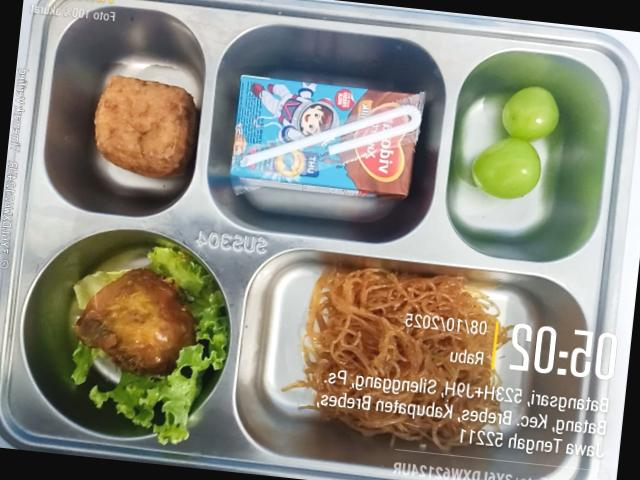ayam: (75, 268, 196, 375)
buah: (502, 87, 561, 141)
mie: (286, 268, 510, 449)
sayur: (90, 247, 229, 444), (75, 272, 126, 307), (71, 342, 101, 384)
susu: (231, 75, 425, 196)
tahu: (95, 76, 197, 178)
